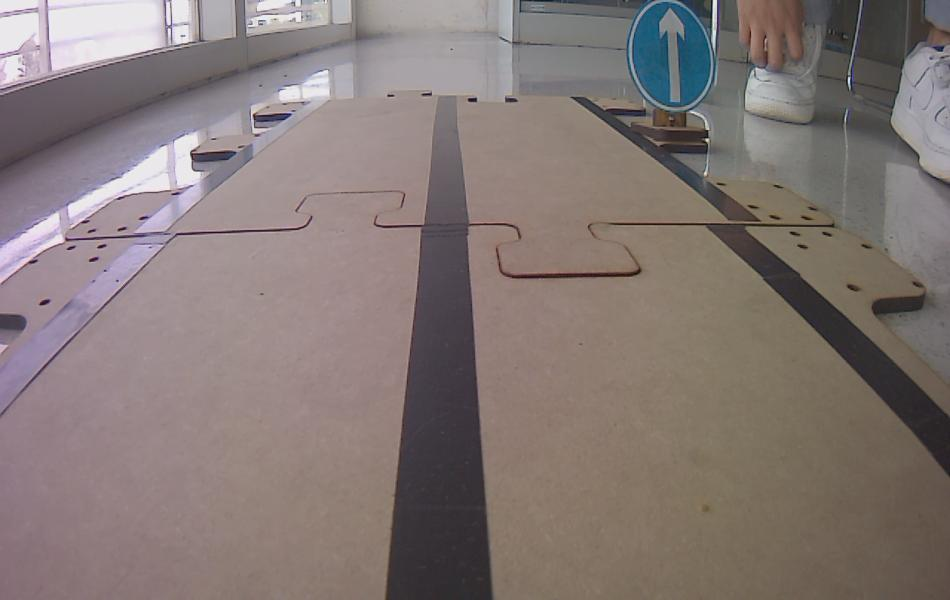straight: (626, 1, 717, 113)
